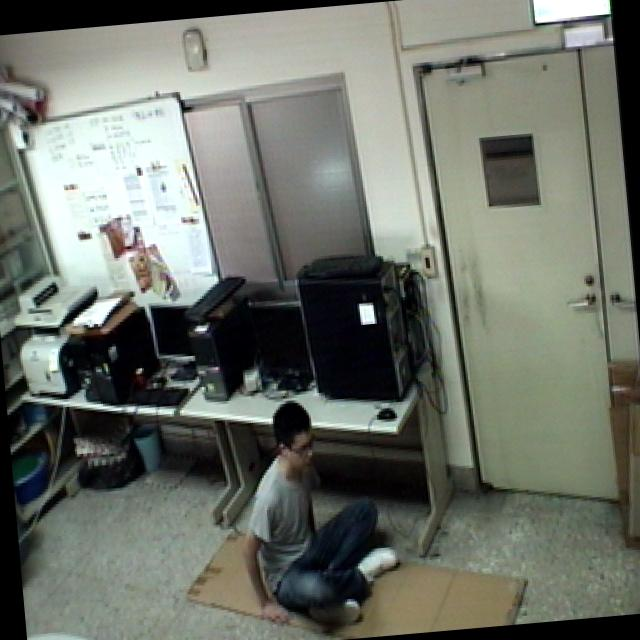sit: (221, 380, 408, 639)
